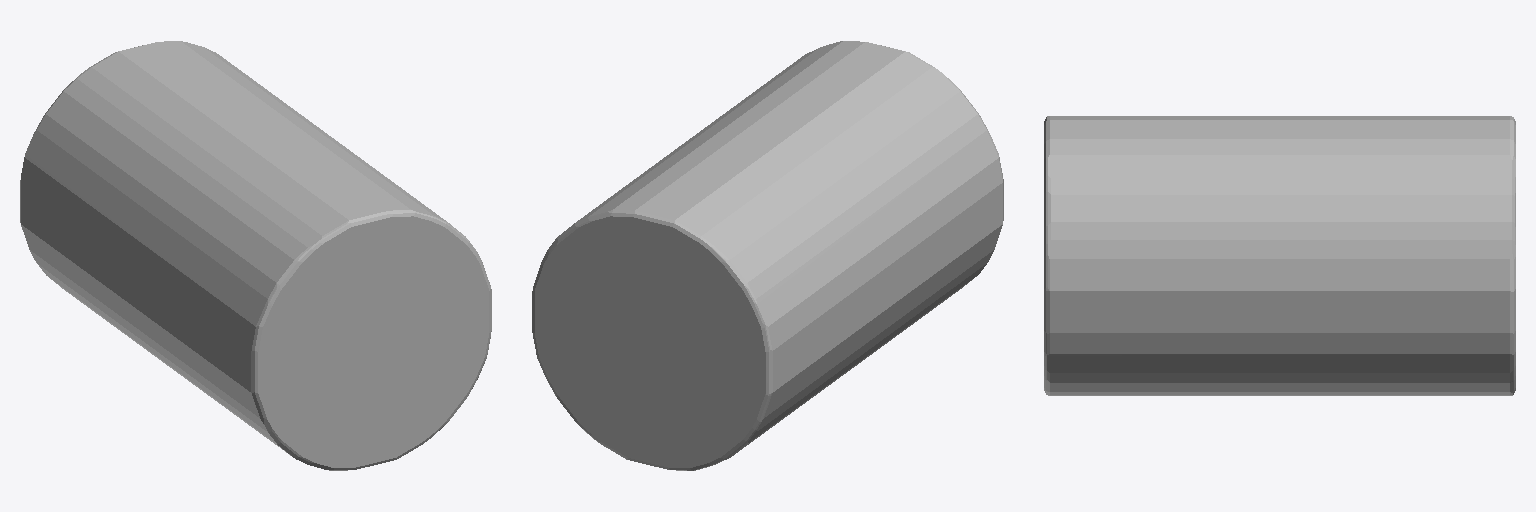
robot.urdf — root:
<?xml version="1.0"?>
<robot name="root">
  <link name="base_link">
    <visual>
      <origin xyz="0 0 0" rpy="0 0 0" />
      <geometry>
        <mesh filename="../meshes/unidex_core_can-5505ddb926a77c0f171374ea58140325_008.obj" scale="1.0000E+00 1.0000E+00 1.0000E+00" />
      </geometry>
      <material name="">
        <color rgba="7.50E-01 7.50E-01 7.50E-01 1" />
      </material>
    </visual>
    <collision>
      <origin xyz="0 0 0" rpy="0 0 0" />
      <geometry>
        <mesh filename="../meshes/unidex_core_can-5505ddb926a77c0f171374ea58140325_008.obj" scale="1.0000E+00 1.0000E+00 1.0000E+00" />
      </geometry>
    </collision>
  </link>
</robot>

--- Facts derived from the render (not from the file) ---
3 views of the same robot in one strip: view 1: azimuth 30°, elevation 25°; view 2: azimuth 150°, elevation 25°; view 3: azimuth 270°, elevation 25° (orthographic).
Model root with 1 links and 0 joints (none), rooted at base_link, posed all joints at 0.
Visible links, largest first — view 1: base_link; view 2: base_link; view 3: base_link.
Link boxes in pixels (x1,y1,x2,y2): base_link: (20,41,491,470); base_link: (532,41,1003,470); base_link: (1044,116,1515,395).
Bounding box of the posed robot: 0.0795 × 0.1355 × 0.0795 m (x, y, z).
1 mesh visuals loaded from 1 distinct referenced files (1 OBJ).
